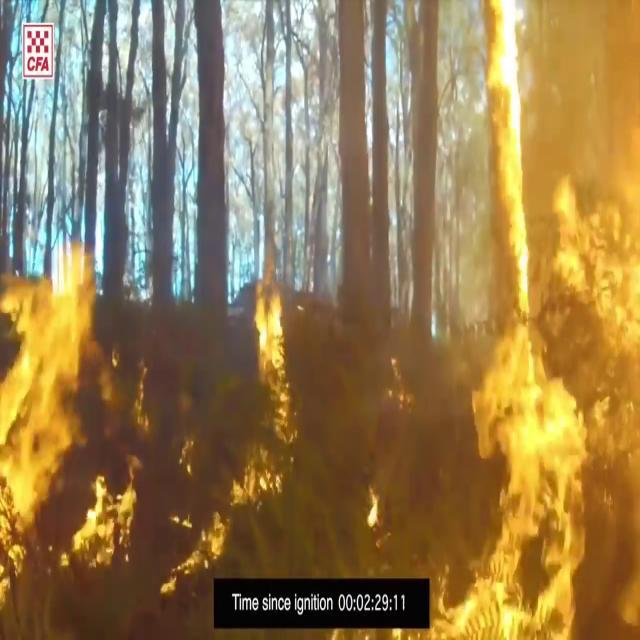Fire: (452, 12, 640, 632), (0, 243, 91, 627), (190, 435, 280, 570), (65, 446, 146, 586), (254, 268, 286, 376)
